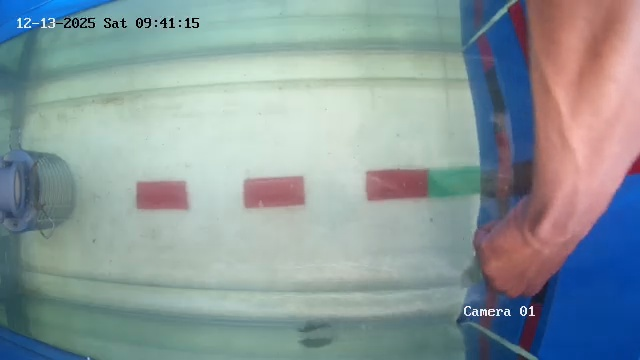fish: (300, 316, 343, 337)
